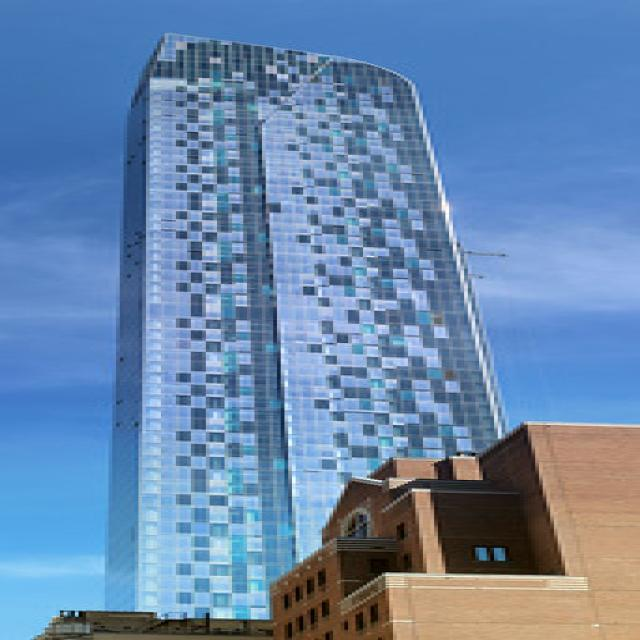building: (110, 30, 500, 625)
